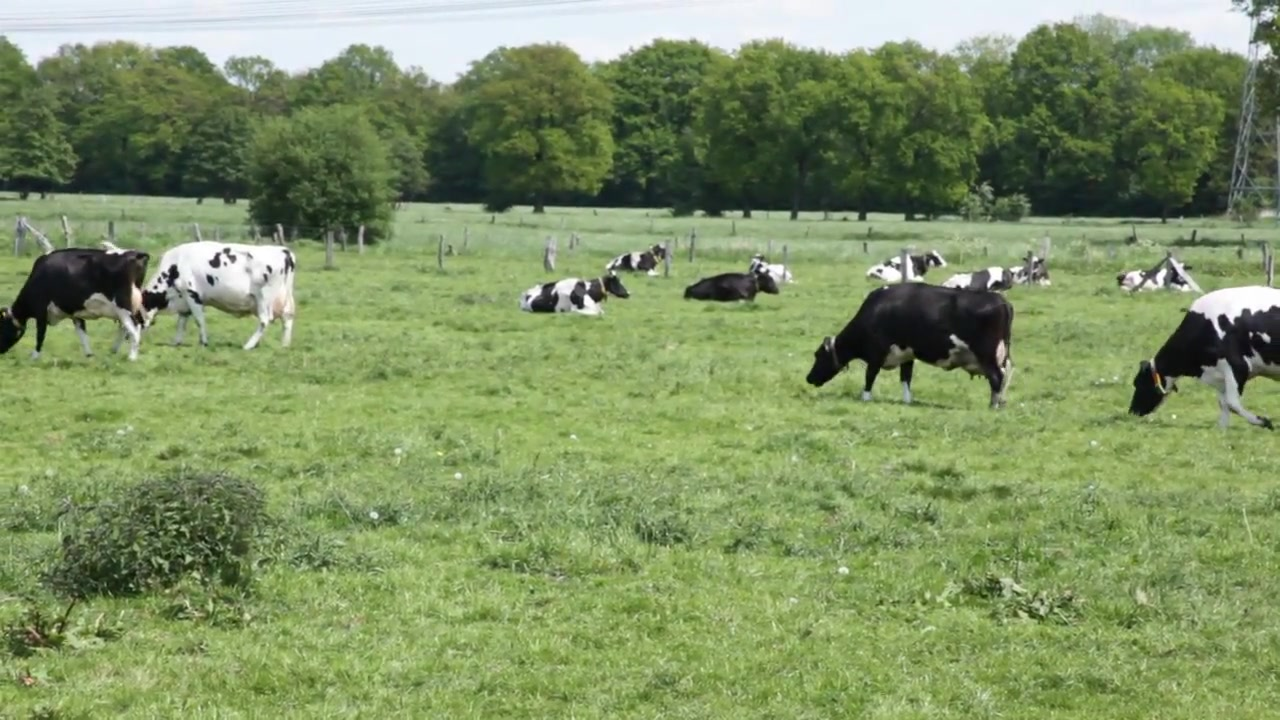cow: (802, 282, 1027, 408)
